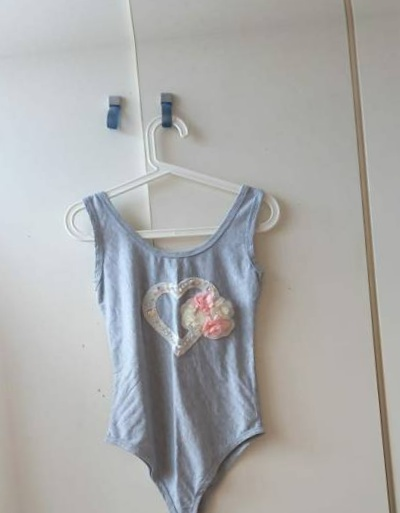Body: (52, 148, 301, 513)
